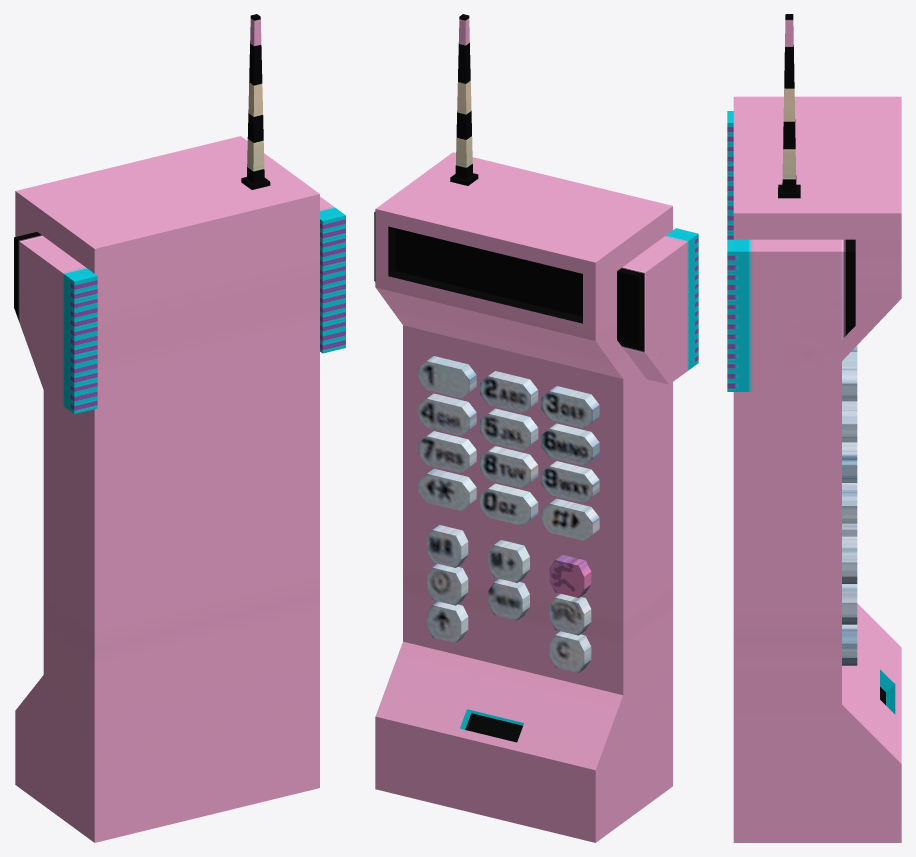
Rendered from CellPhone_Retro.glb.
3 renders of one model, left to right at view 1: azimuth 30°, elevation 25°; view 2: azimuth 150°, elevation 25°; view 3: azimuth 270°, elevation 25°, orthographic. The views are drawn at different scales.
Parts seen in each view (by area): view 1: CellPhone_Retro; view 2: CellPhone_Retro; view 3: CellPhone_Retro.
Part boxes in pixels (x1,y1,x2,y2): CellPhone_Retro: [14, 14, 345, 842]; CellPhone_Retro: [374, 14, 698, 842]; CellPhone_Retro: [727, 14, 901, 842].
Size of the model in its own units: 1.05 by 2.82 by 0.5508.
Materials: 2 (2 with a texture image).
